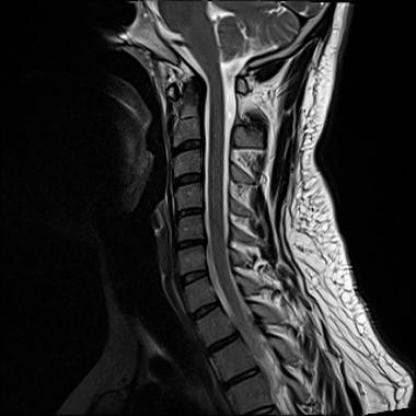Disc Bulgerotation: (176, 233, 206, 254)
